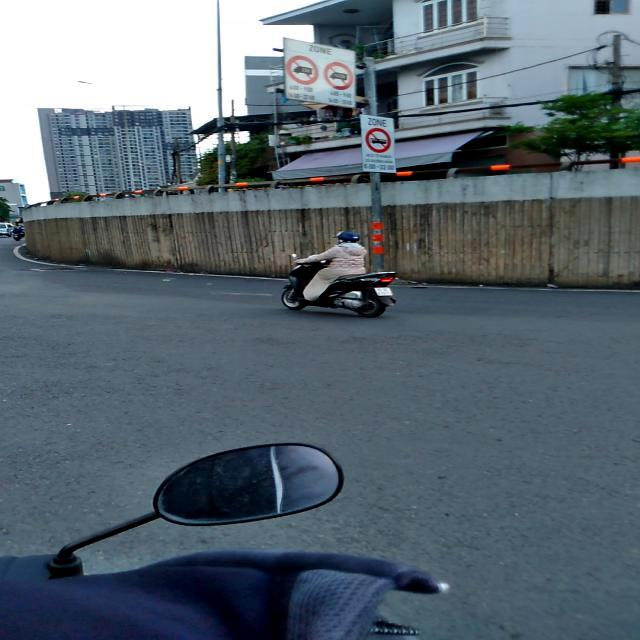Cam xe tai tren 2_5: (285, 55, 319, 85), (323, 61, 354, 90)
